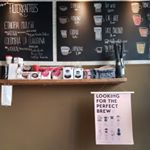other: (109, 40, 130, 81)
